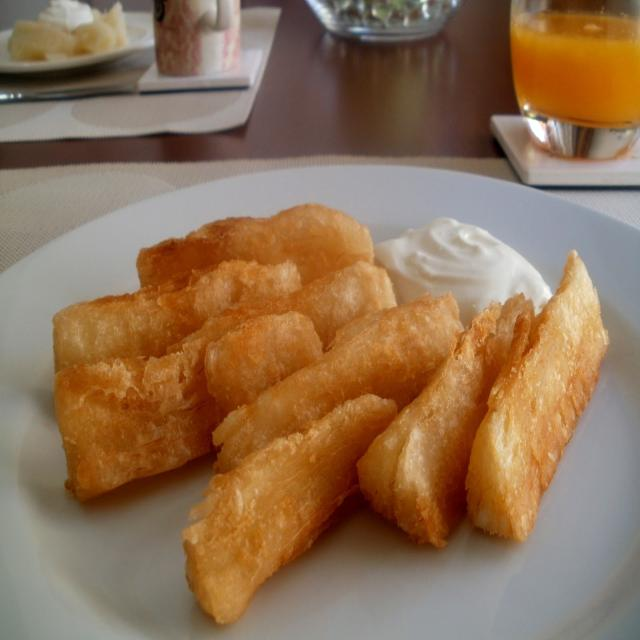yuca: (49, 191, 612, 624)
